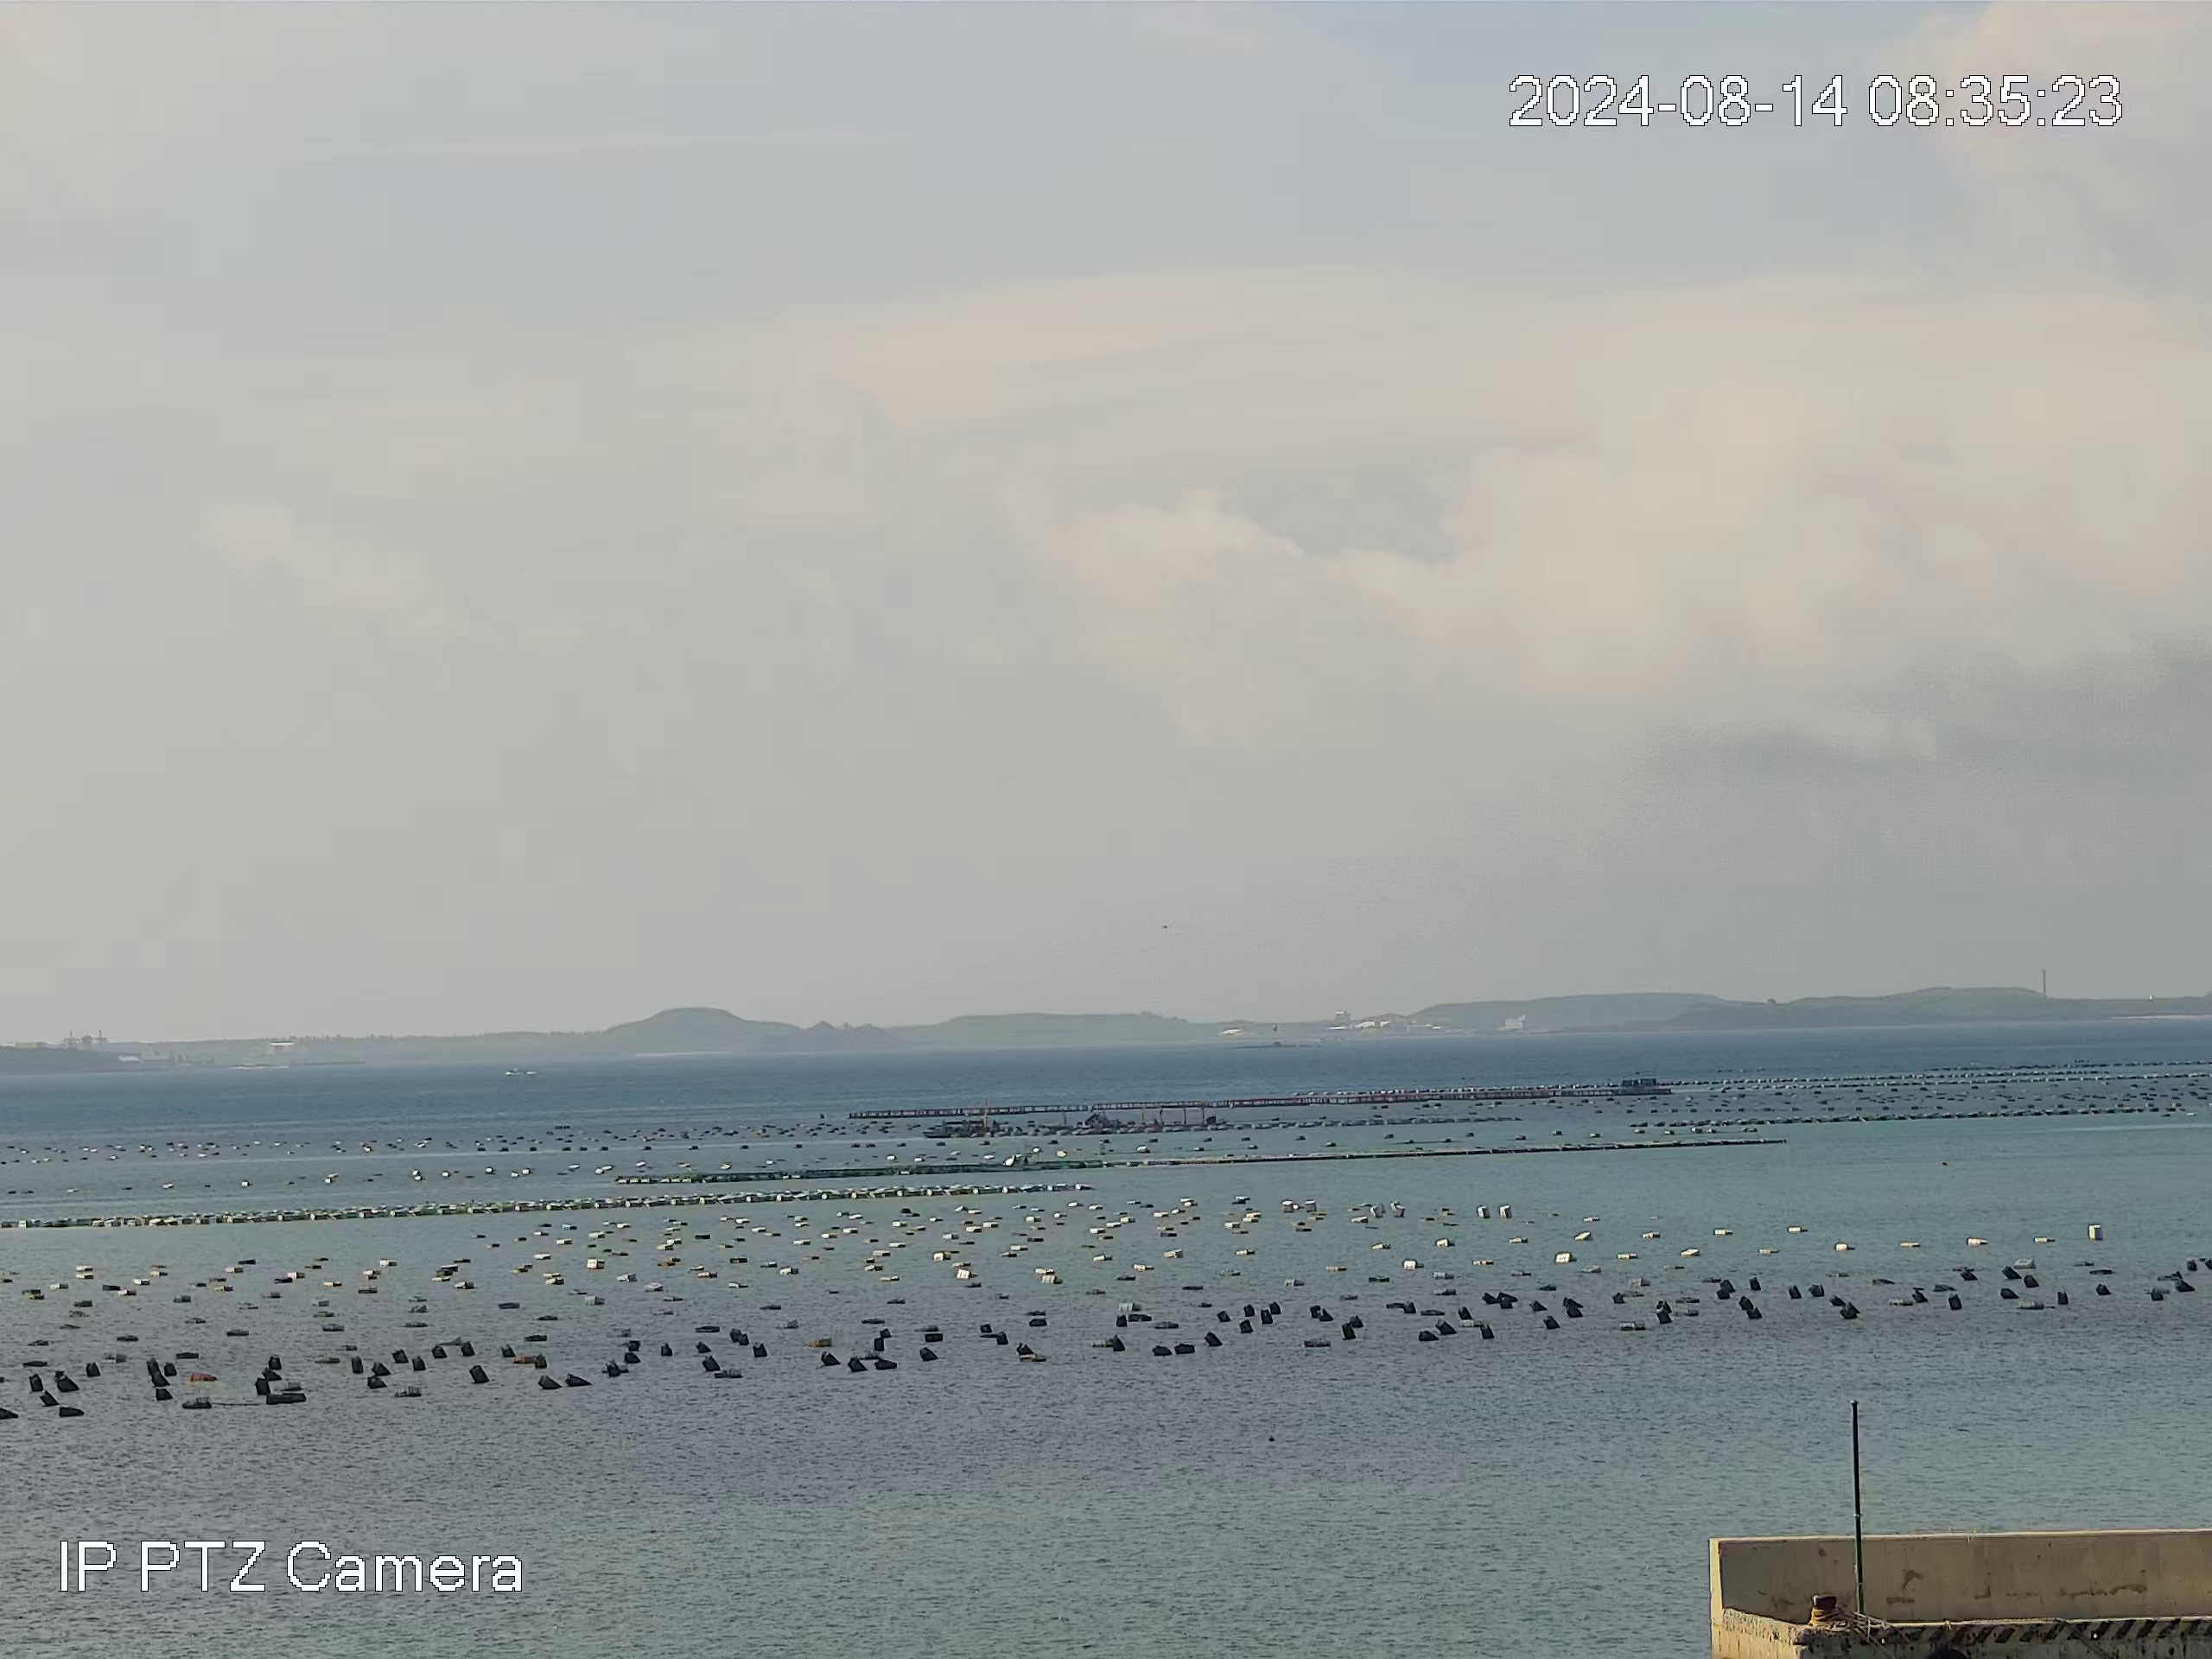boat: (923, 1119, 989, 1140)
